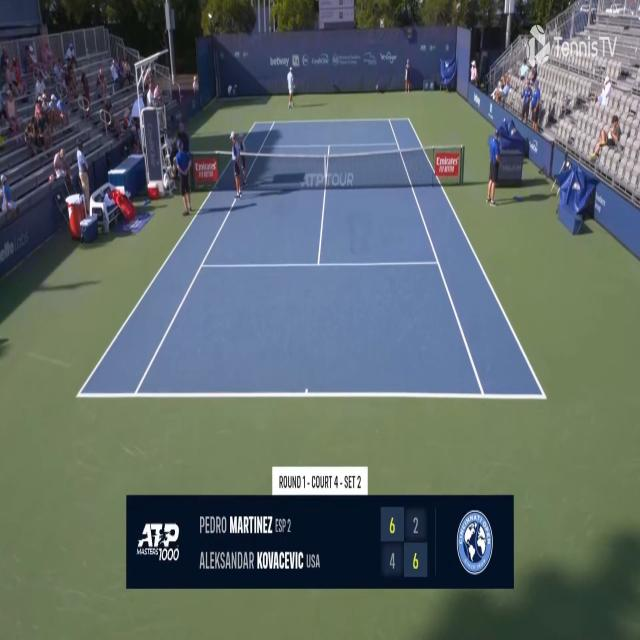tennis-player: (285, 64, 296, 109)
